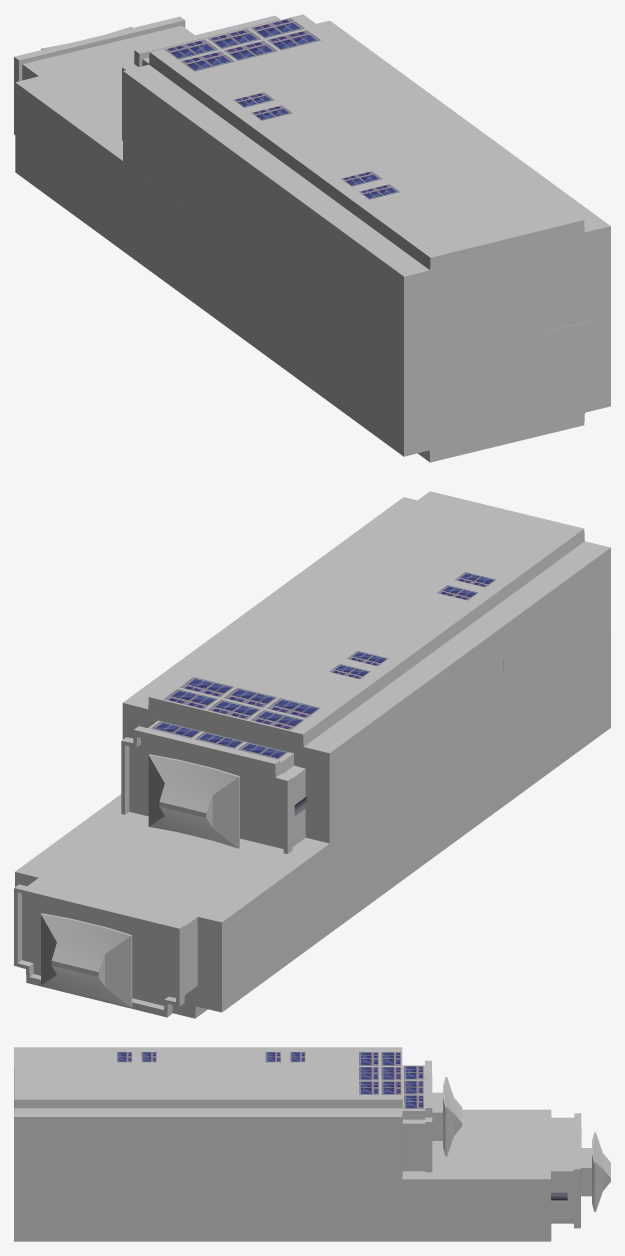
The model's file is block_tall_03.FBX.
3 renders of one model, top to bottom at view 1: azimuth 30°, elevation 25°; view 2: azimuth 150°, elevation 25°; view 3: azimuth 270°, elevation 25°, orthographic. The views are drawn at different scales.
Visible parts, largest first — view 1: building_brutalist_6s (×5), building_neonepali_6s (×2); view 2: building_brutalist_6s (×5), building_neonepali_6s (×2); view 3: building_brutalist_6s (×5), building_neonepali_6s (×2).
Boxes of the visible parts, x1,y1,x2,y2 form: building_brutalist_6s (×5): (81, 62, 610, 462); building_neonepali_6s (×2): (14, 14, 395, 219); building_brutalist_6s (×5): (81, 491, 610, 963); building_neonepali_6s (×2): (14, 649, 395, 1018); building_brutalist_6s (×5): (14, 1047, 460, 1241); building_neonepali_6s (×2): (311, 1047, 610, 1241).
Bounding box in the file's own units: 26.65 × 25.29 × 96.29.
